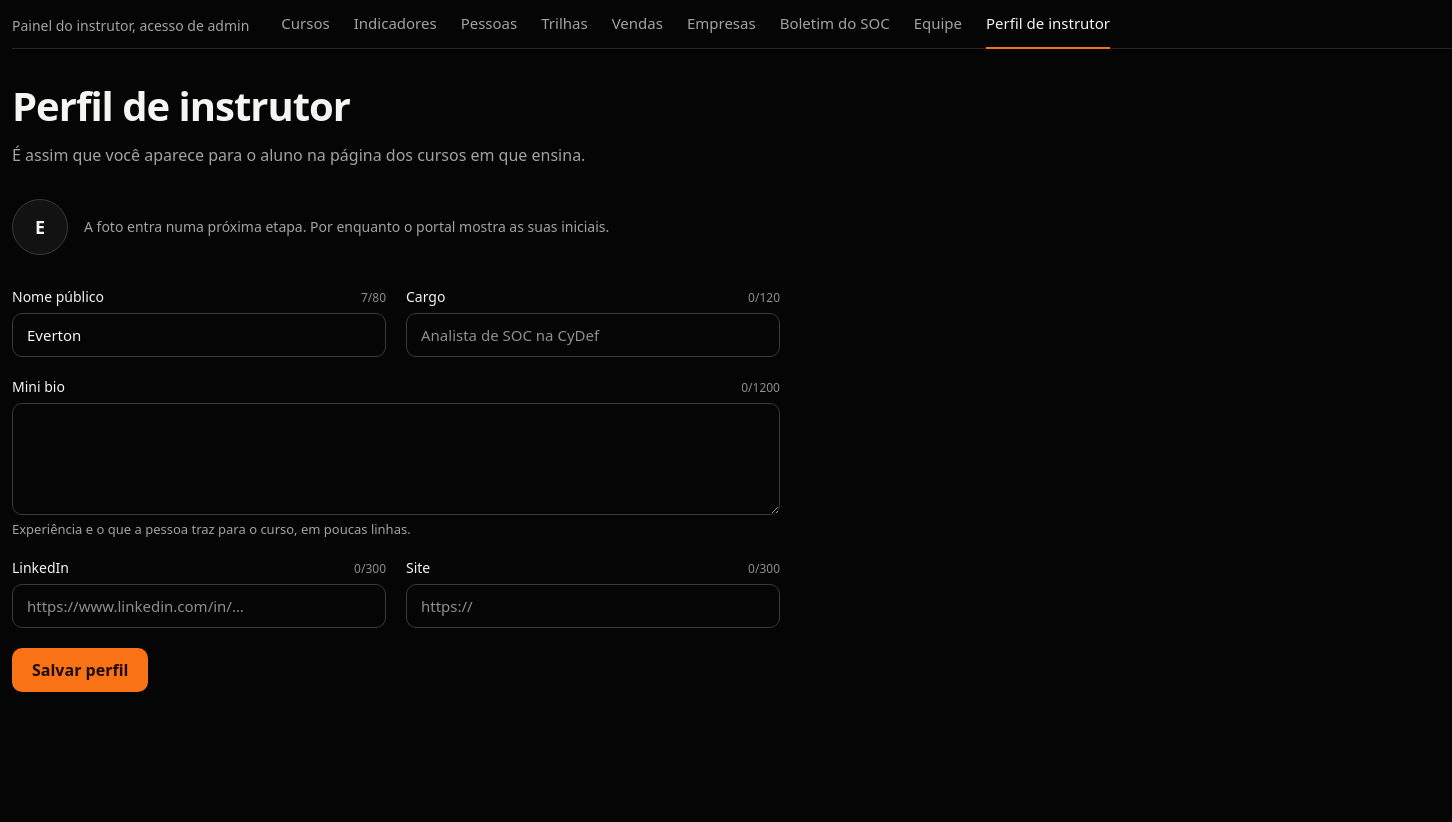
Perfil de instrutor › mostra a mensagem do banco quando o LinkedIn é inválido
This screenshot has width=1452, height=822.
Step 1. Click the button "Salvar perfil" → x=80, y=670, box [12,648,148,692]
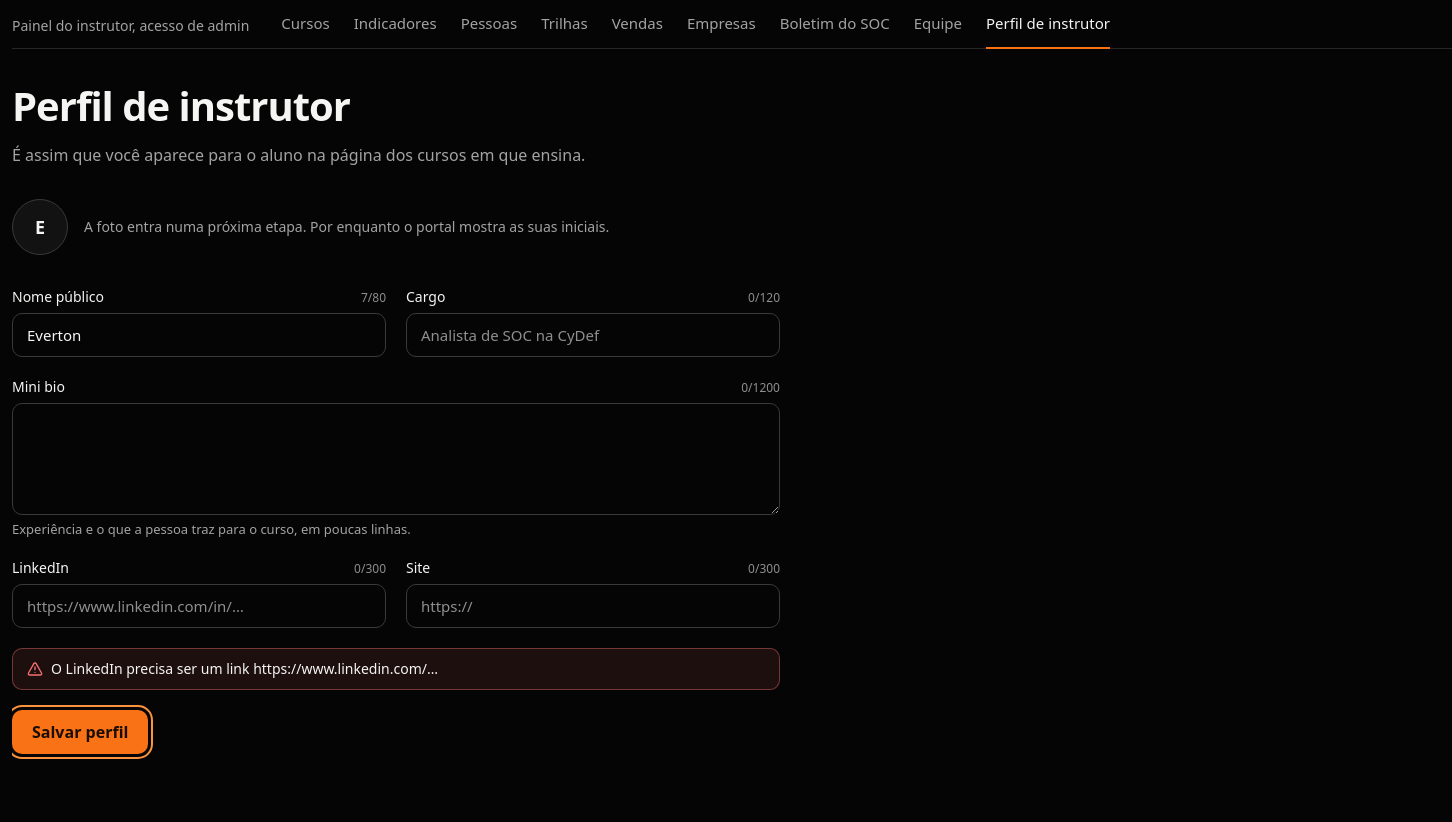
Expected: the message shows "O LinkedIn precisa ser um link", [51,659,438,678]
